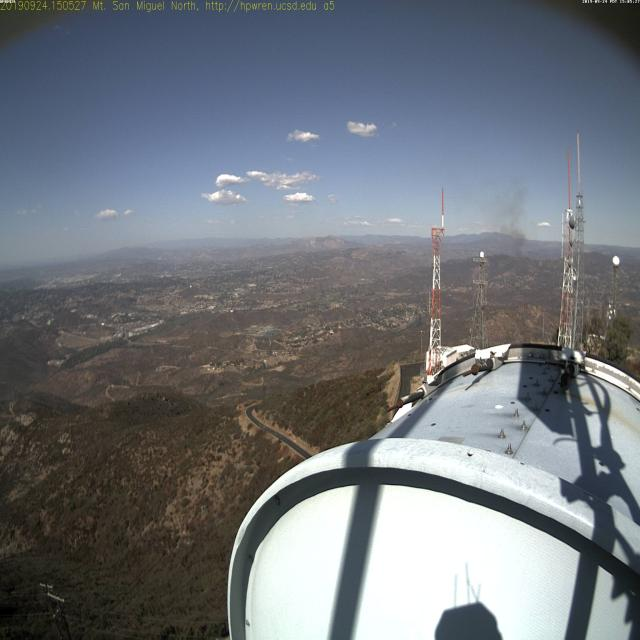smoke: (498, 222, 532, 267)
